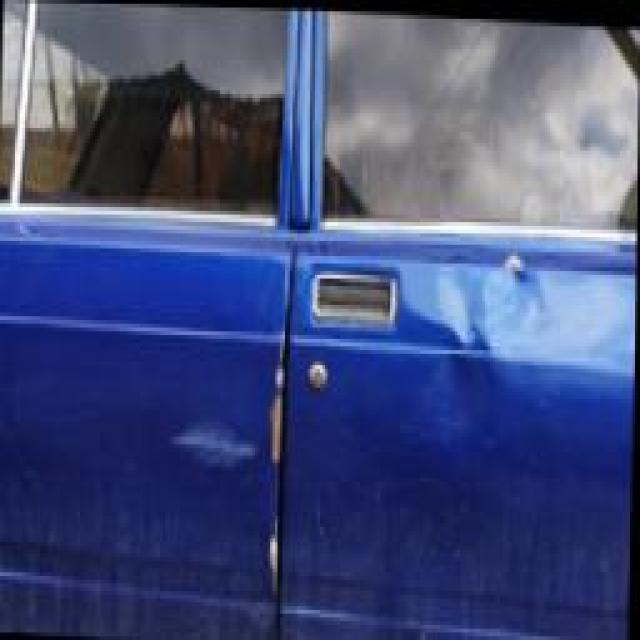Door: (85, 335, 591, 639)
